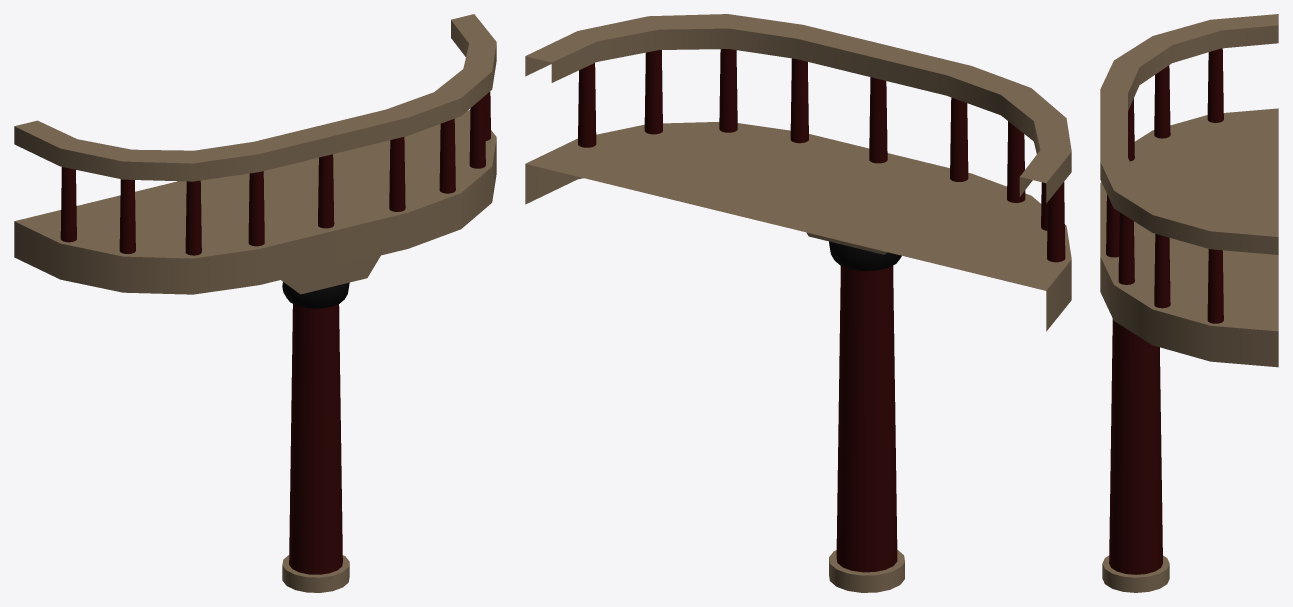
The model's file is 4_balcony.FBX.
The picture shows the model from 3 angles, left to right: view 1: azimuth 30°, elevation 25°; view 2: azimuth 150°, elevation 25°; view 3: azimuth 270°, elevation 25°; orthographic projection. The views are drawn at different scales.
Parts seen in each view (by area): view 1: balcony_floor, balcony_railing, pillar, pillar_support, pillar_base, balcony_railing_support006, balcony_railing_support007, balcony_railing_support001, balcony_railing_support008, balcony_railing_support002, balcony_railing_support, balcony_railing_support003 (+2 smaller); view 2: balcony_floor, balcony_railing, pillar, pillar_base, balcony_railing_support, balcony_railing_support002, balcony_railing_support003, balcony_railing_support004, balcony_railing_support001, balcony_railing_support005, pillar_cap, balcony_railing_support008 (+1 smaller); view 3: balcony_floor, balcony_railing, pillar, pillar_base, balcony_railing_support005, balcony_railing_support008, balcony_railing_support004, balcony_railing_support007, balcony_railing_support003, balcony_railing_support002, balcony_railing_support006.
Boxes of the visible parts, <box> form: balcony_floor: <box>14,110,496,294</box>; balcony_railing: <box>14,14,496,181</box>; pillar: <box>289,304,342,574</box>; pillar_support: <box>281,255,380,294</box>; pillar_base: <box>282,555,349,592</box>; balcony_railing_support006: <box>185,180,201,255</box>; balcony_railing_support007: <box>119,179,135,253</box>; balcony_railing_support001: <box>248,171,264,246</box>; balcony_railing_support008: <box>60,167,76,242</box>; balcony_railing_support002: <box>389,137,405,211</box>; balcony_railing_support: <box>318,154,334,228</box>; balcony_railing_support003: <box>439,118,455,193</box>; balcony_floor: <box>525,122,1071,331</box>; balcony_railing: <box>525,14,1071,203</box>; pillar: <box>836,265,897,572</box>; pillar_base: <box>829,550,904,592</box>; balcony_railing_support: <box>869,77,887,163</box>; balcony_railing_support002: <box>790,58,808,143</box>; balcony_railing_support003: <box>719,49,737,132</box>; balcony_railing_support004: <box>644,50,662,134</box>; balcony_railing_support001: <box>950,97,968,181</box>; balcony_railing_support005: <box>578,63,596,147</box>; pillar_cap: <box>829,241,901,270</box>; balcony_railing_support008: <box>1047,182,1065,262</box>; balcony_floor: <box>1100,108,1278,367</box>; balcony_railing: <box>1100,14,1278,254</box>; pillar: <box>1109,319,1162,574</box>; pillar_base: <box>1102,555,1169,592</box>; balcony_railing_support005: <box>1207,249,1223,323</box>; balcony_railing_support008: <box>1207,48,1223,122</box>; balcony_railing_support004: <box>1154,234,1170,308</box>; balcony_railing_support007: <box>1154,65,1170,138</box>; balcony_railing_support003: <box>1118,212,1134,284</box>; balcony_railing_support002: <box>1106,194,1119,257</box>; balcony_railing_support006: <box>1128,98,1134,161</box>.
Bounding box in the file's own units: 400 × 379 × 135.
